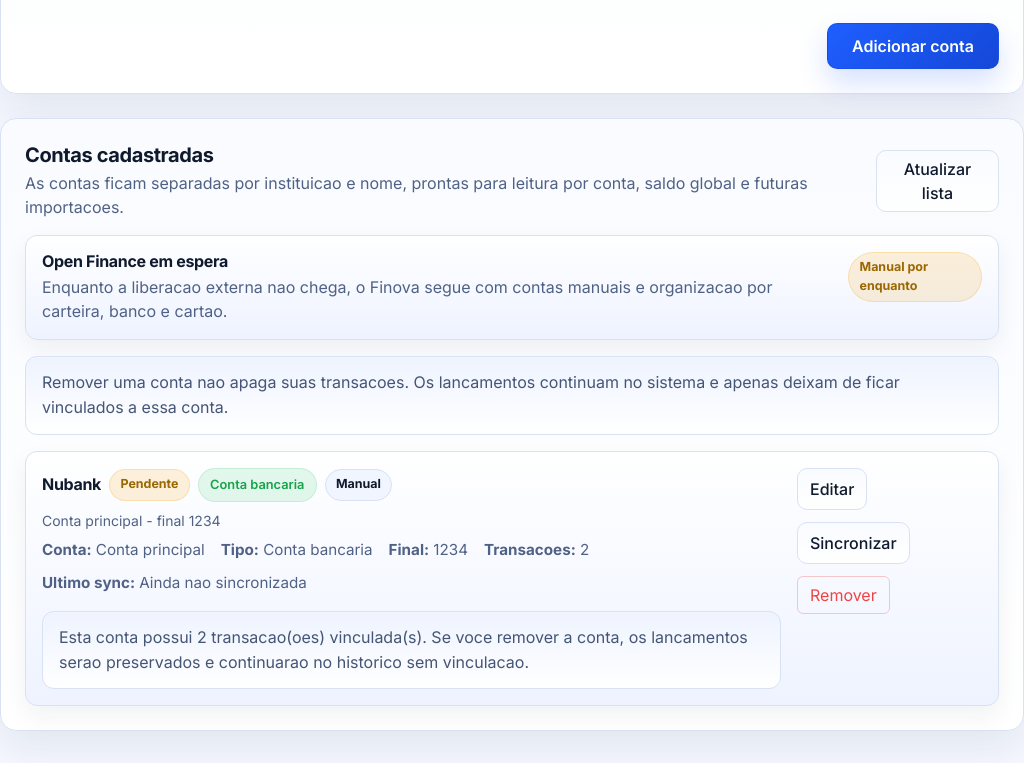
Test case: FinancialAccounts page › removes an account and preserves transactions
(page scrolled)
Expected: the heading "Nubank" is shown, x1=42 y1=475 x2=101 y2=494
Click the button "Remover" at (843, 595), box x1=797 y1=576 x2=890 y2=614
(page scrolled)
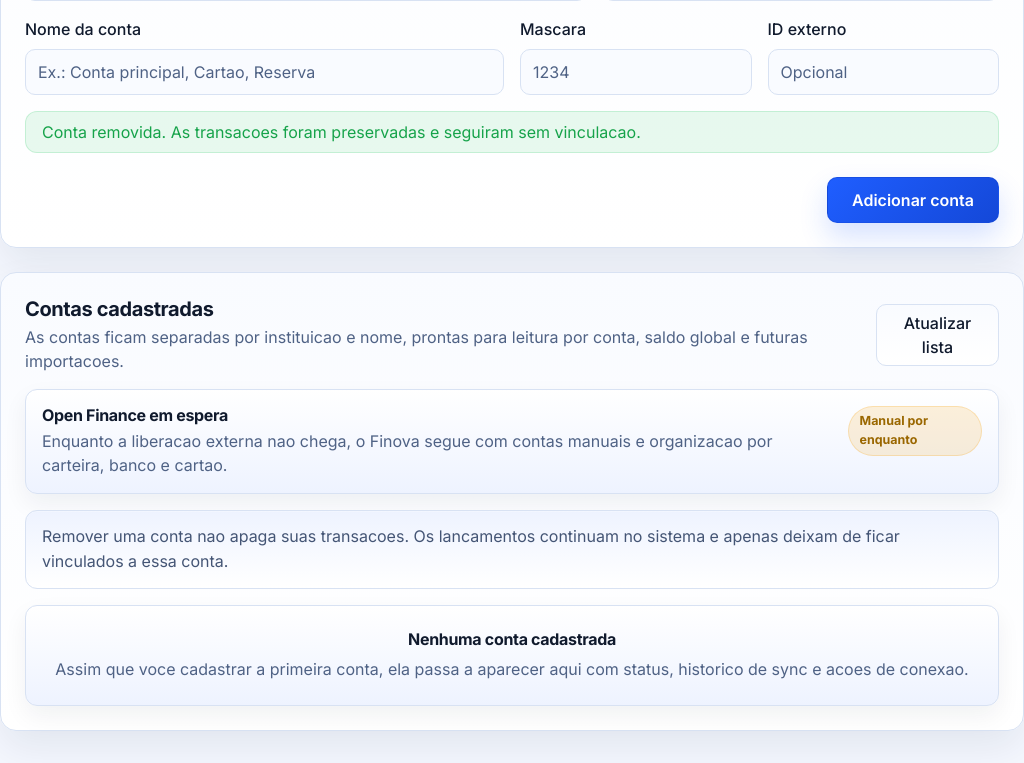
Expected: the text "Conta removida. As transacoes foram preservadas e seguiram sem vinculacao." is shown, x1=25 y1=111 x2=999 y2=153
